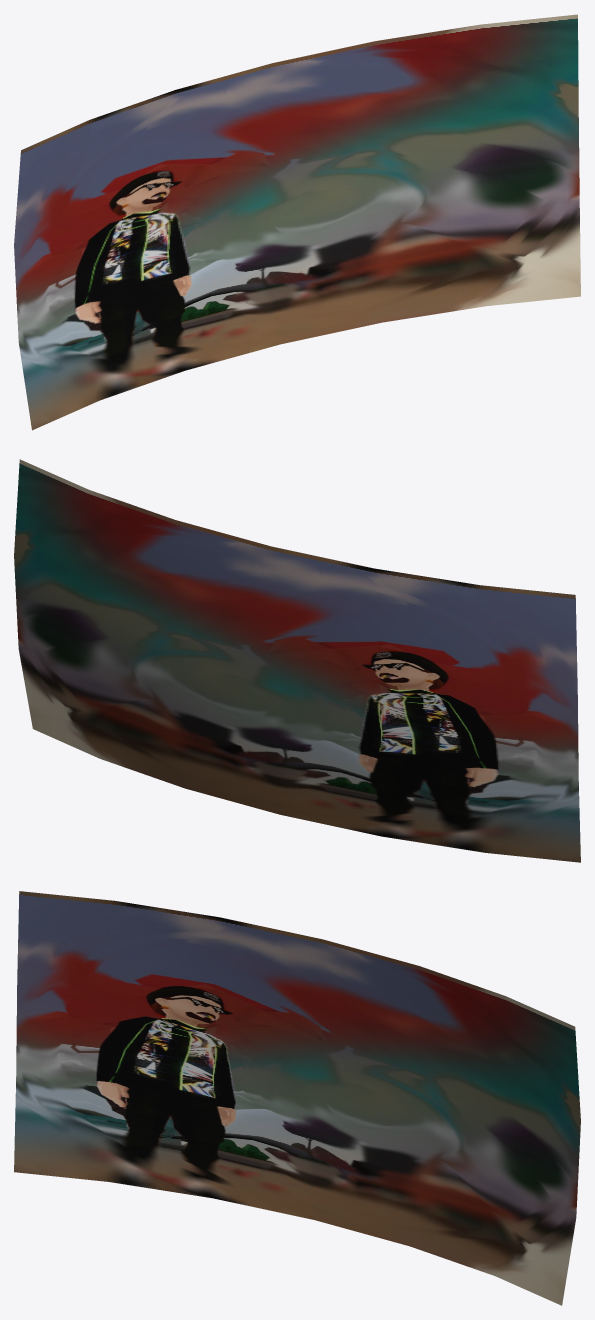
The model's file is screen.glb.
The picture shows the model from 3 angles, top to bottom: view 1: azimuth 30°, elevation 25°; view 2: azimuth 150°, elevation 25°; view 3: azimuth 330°, elevation 25°; orthographic projection.
Parts seen in each view (by area): view 1: Sphere.001; view 2: Sphere.001; view 3: Sphere.001.
Boxes of the visible parts, x1=… form: Sphere.001: x1=14, y1=14, x2=580, y2=430; Sphere.001: x1=14, y1=459, x2=580, y2=862; Sphere.001: x1=14, y1=891, x2=580, y2=1305.
Bounding box in the file's own units: 9.85 × 4.58 × 1.13.
1 material, 1 textured.
